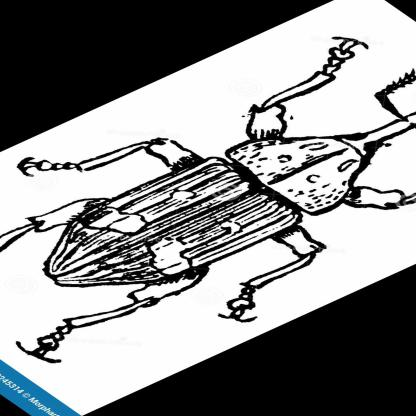ash weevil: (23, 39, 416, 356)
